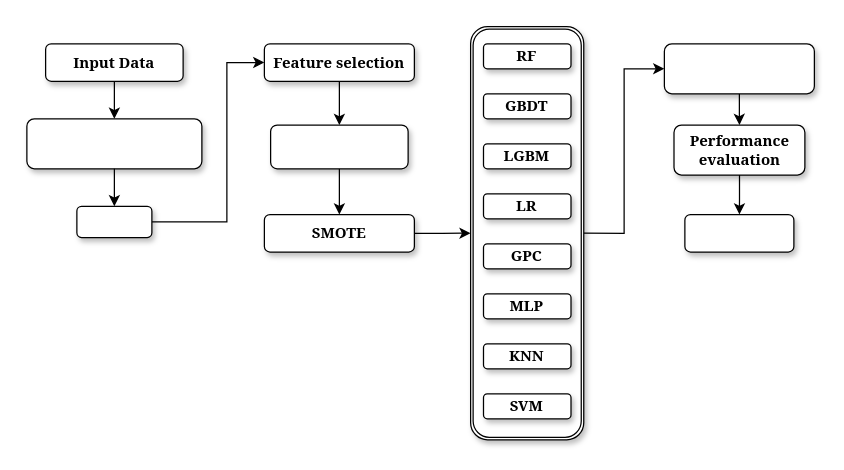
Image size: 844x470. Some labels were removed from this diagram. Here are the shapes that lost their labels. From the top down, the centre of each, then its label:
the point at 740,70: Hyperparameter optimization
the point at 115,145: Split data train and validation
the point at 340,148: Min-Max Normalization
the point at 115,223: EDA
the point at 740,234: SHAP
